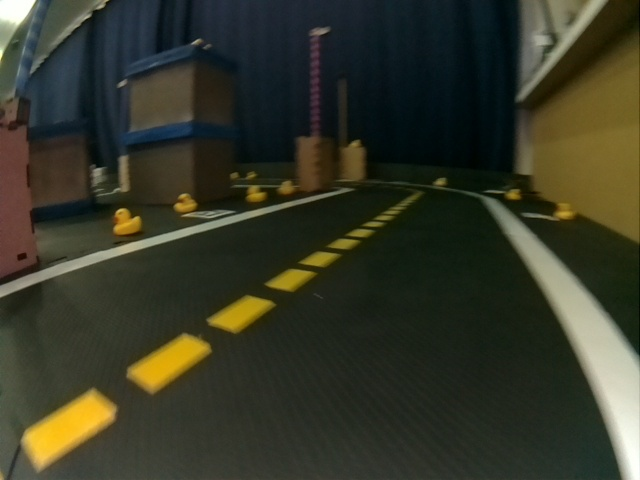Duckie: (116, 210, 139, 235), (173, 194, 195, 212), (558, 204, 577, 219), (247, 185, 264, 200), (506, 188, 521, 199), (278, 181, 293, 191), (350, 139, 360, 148), (437, 177, 447, 186)
QR code: (182, 210, 235, 218)
